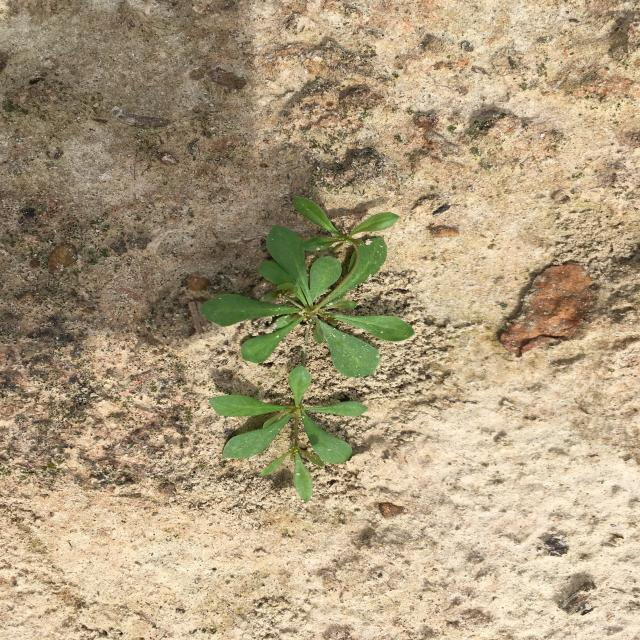Carpetweed: (199, 195, 415, 503)
